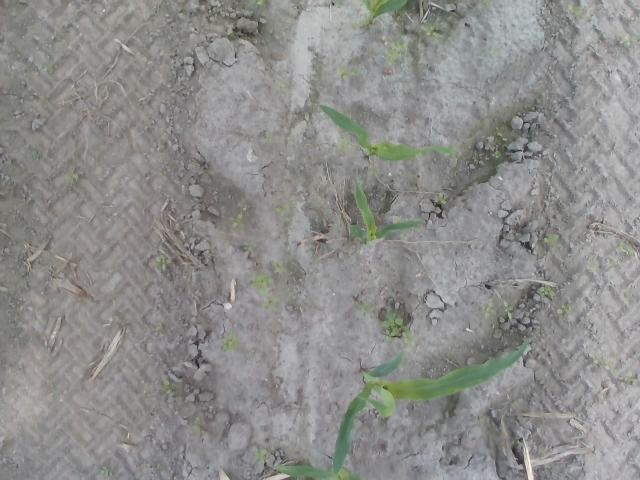Maize: (328, 336, 528, 473), (318, 104, 456, 161), (348, 182, 424, 243), (280, 463, 360, 480), (362, 0, 408, 26)
Weeds: (252, 273, 282, 311), (383, 313, 408, 340), (385, 42, 403, 64), (336, 66, 360, 80), (222, 334, 240, 352), (152, 255, 169, 272), (419, 25, 438, 38), (480, 304, 498, 317), (230, 212, 243, 228), (276, 203, 290, 217), (254, 446, 266, 462), (272, 260, 286, 273), (619, 240, 631, 255), (437, 191, 449, 206), (503, 301, 512, 320), (542, 234, 559, 244), (339, 137, 352, 150), (539, 286, 554, 297), (253, 0, 271, 9), (66, 170, 79, 182), (163, 380, 175, 392), (243, 241, 256, 252), (262, 132, 274, 142), (570, 6, 582, 15), (492, 151, 502, 160)
